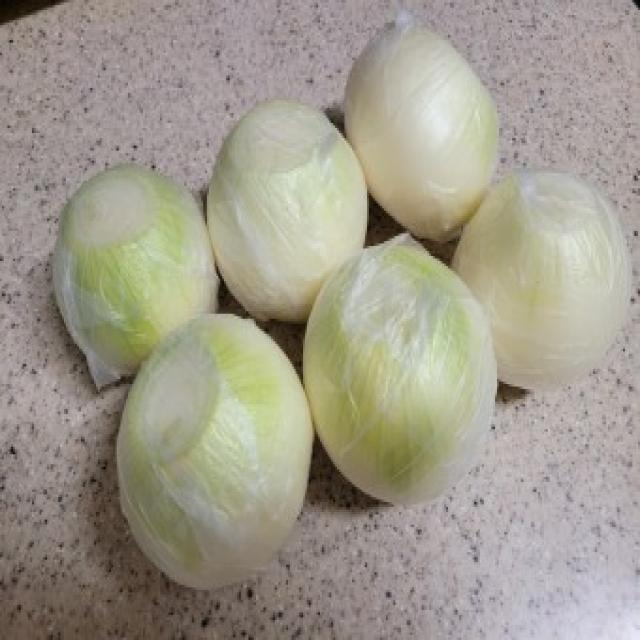onion: (148, 308, 322, 594), (333, 231, 496, 503), (471, 172, 633, 402), (204, 110, 379, 312), (343, 24, 501, 232), (41, 154, 196, 341)
